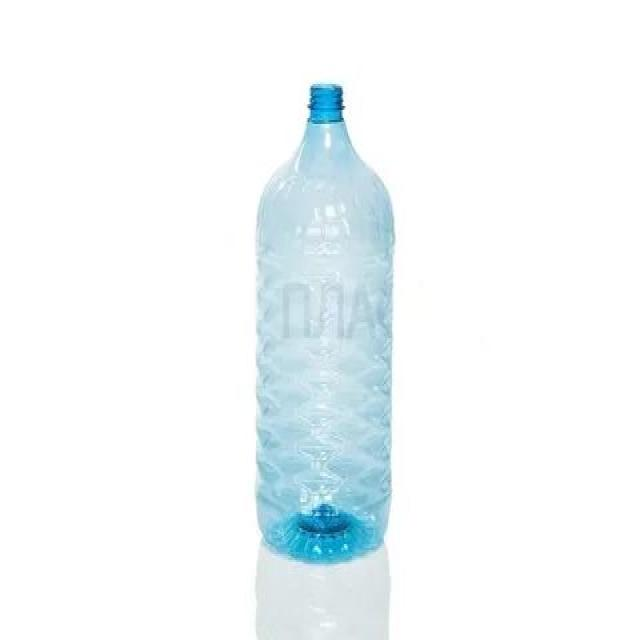blue: (256, 83, 394, 562)
